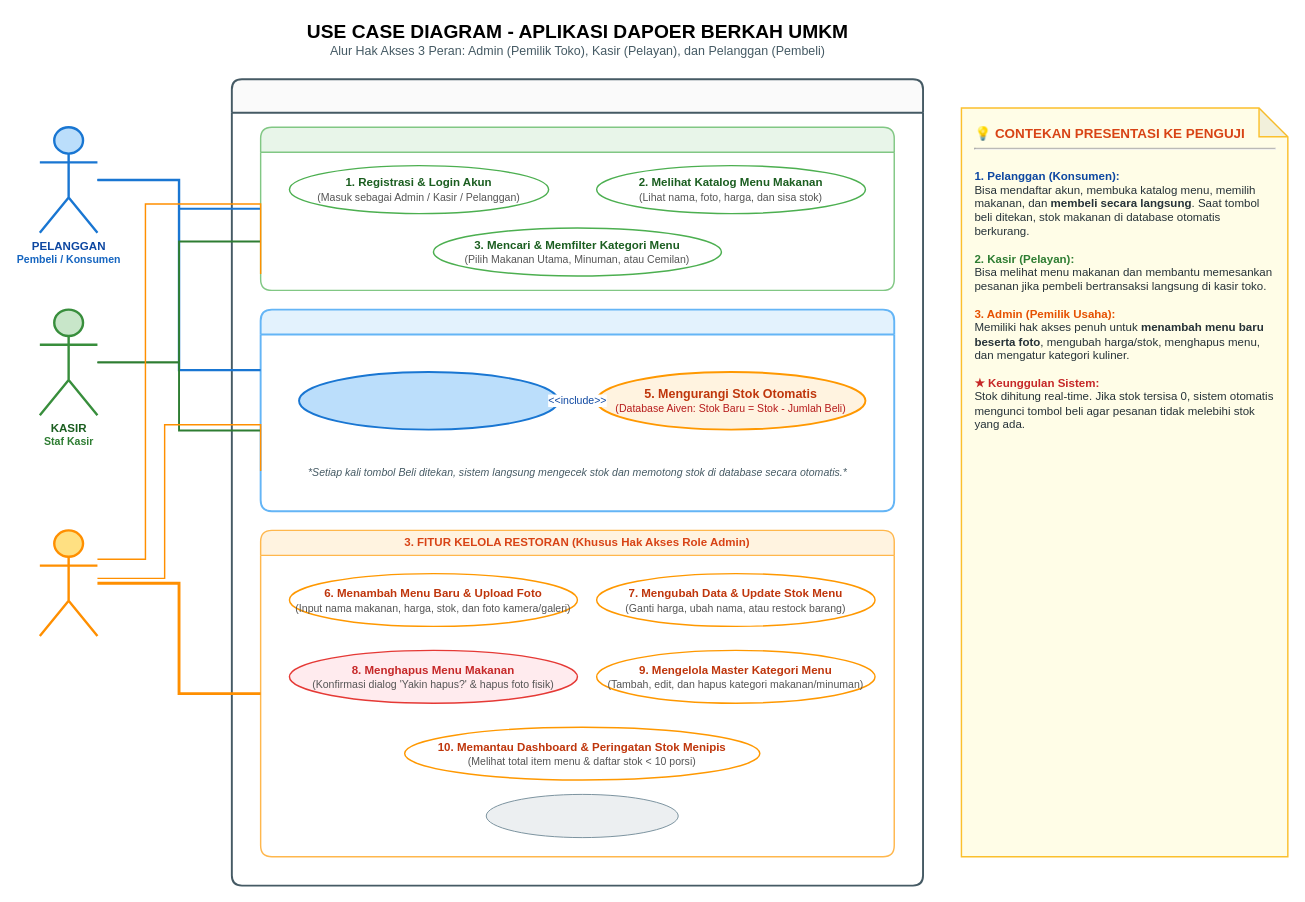
Some shapes in this 1305 by 902 pixel diagram are drawn without their labels. The box of each missing label's shape, as (x1, y1, x2, y2) in pixels:
1. FITUR BERSAMA (Dapat Diakses Semua Pengguna): (259, 126, 895, 291)
11. Logout Akun (Hapus Sesi Login): (485, 793, 678, 838)
2. FITUR PEMBELIAN (Pelanggan & Kasir): (259, 308, 895, 512)
4. Membeli Menu Makanan (Pilih jumlah porsi & konfirmasi pemesanan): (298, 371, 559, 430)
ADMIN Pemilik UMKM: (38, 529, 98, 637)
SISTEM APLIKASI DAPOER BERKAH (FLUTTER + REST API): (230, 78, 924, 886)
